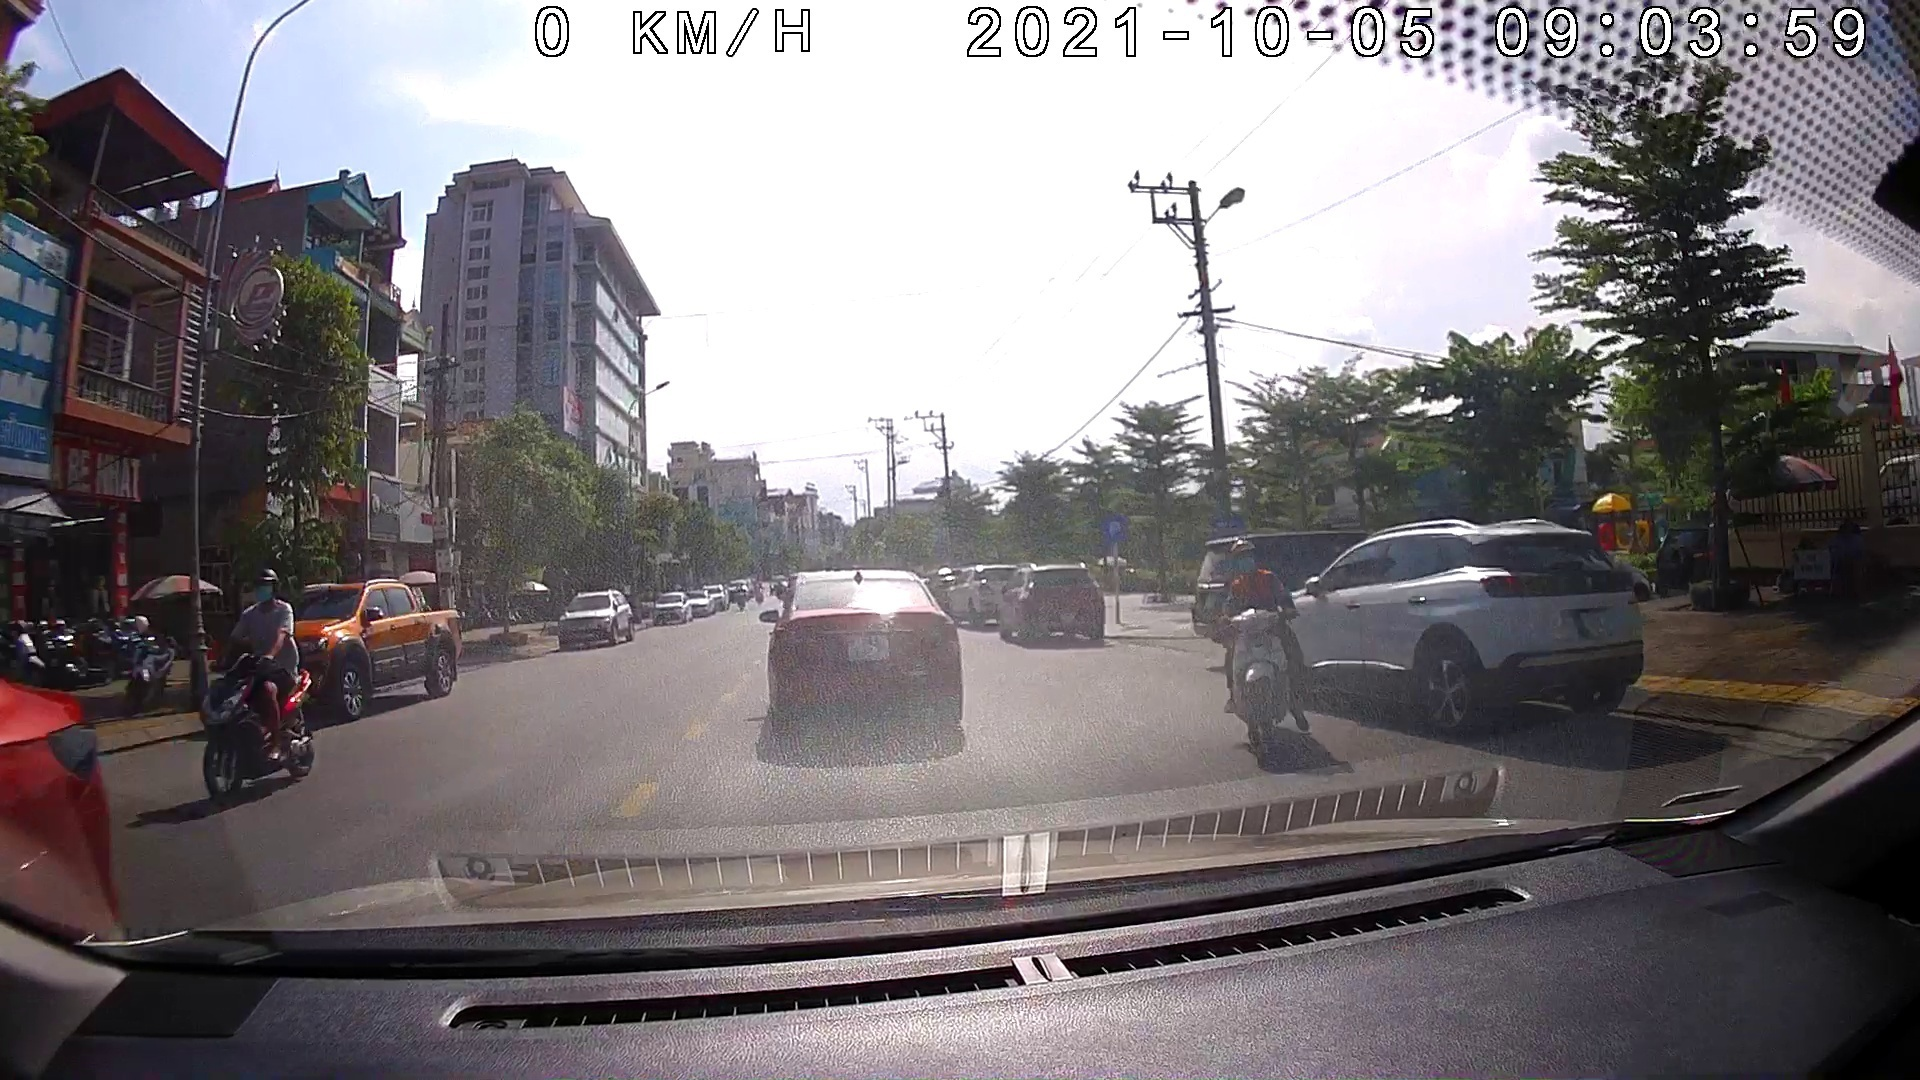Bien khac: (1102, 516, 1127, 542)
